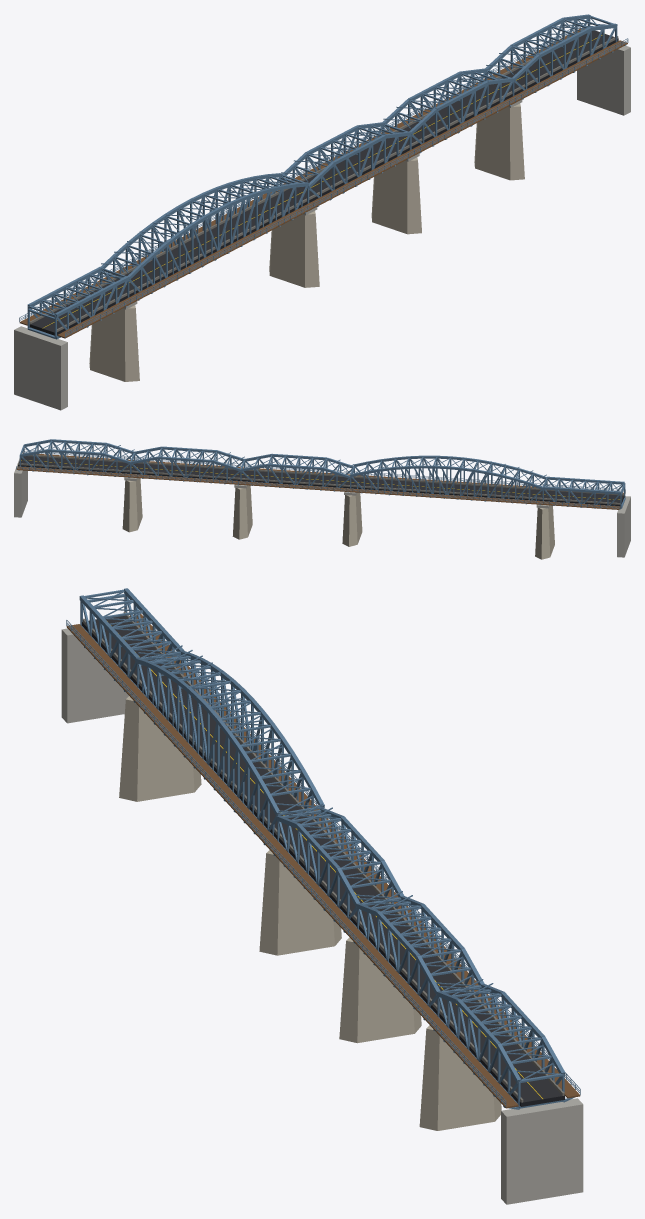
Rendered from br_r15_dawson.gltf.
The picture shows the model from 3 angles, top to bottom: view 1: azimuth 30°, elevation 25°; view 2: azimuth 150°, elevation 25°; view 3: azimuth 270°, elevation 25°; orthographic projection. The views are drawn at different scales.
Visible parts, largest first — view 1: br_r15_dawson; view 2: br_r15_dawson; view 3: br_r15_dawson.
Boxes of the visible parts, <box> form: br_r15_dawson: <box>14,14,630,410</box>; br_r15_dawson: <box>14,439,630,559</box>; br_r15_dawson: <box>61,588,583,1204</box>.
Bounding box in the file's own units: 230 × 35.45 × 102.
